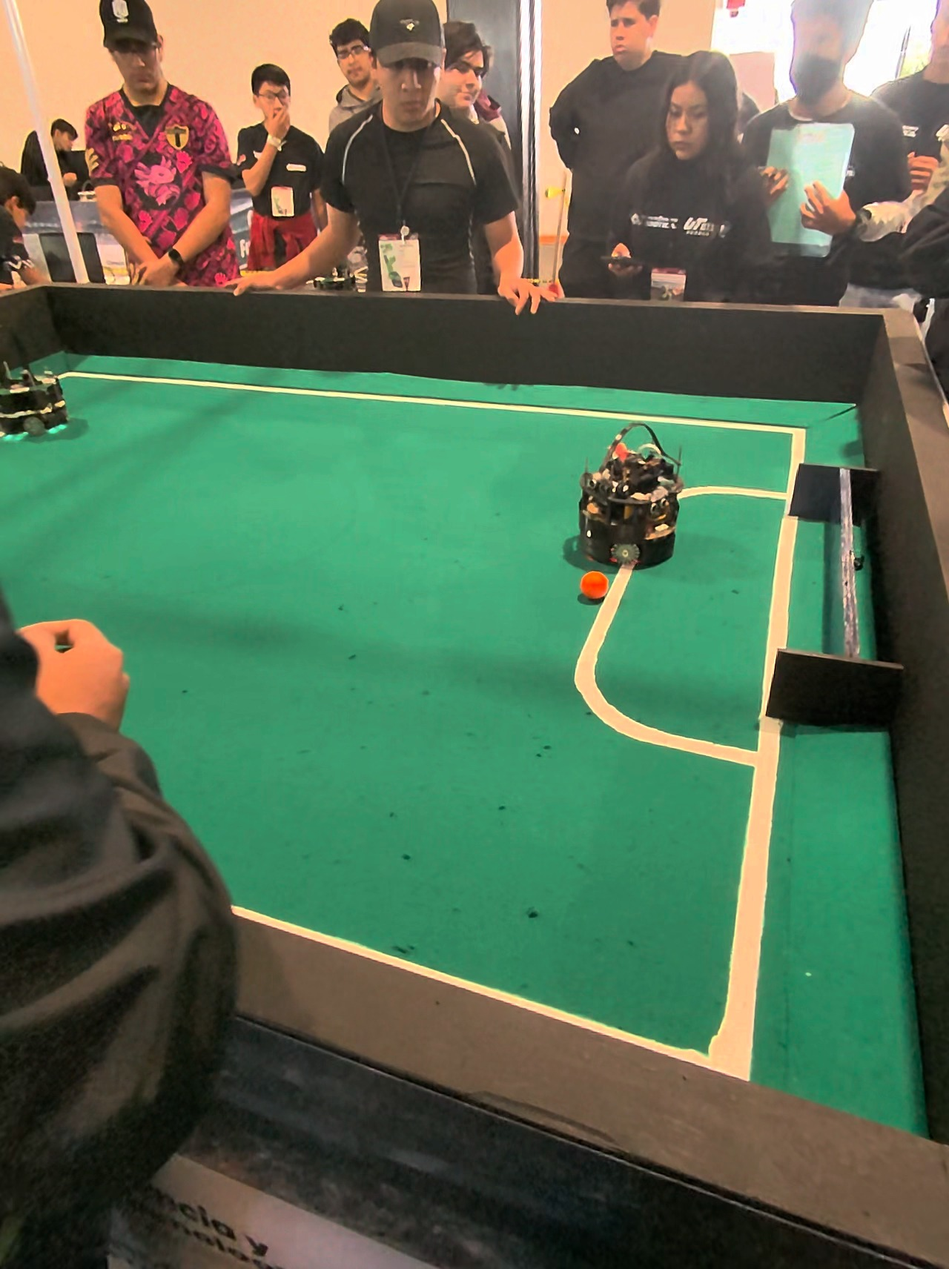Robot: (570, 428, 695, 579), (0, 301, 78, 463)
pelota: (578, 570, 606, 601)
